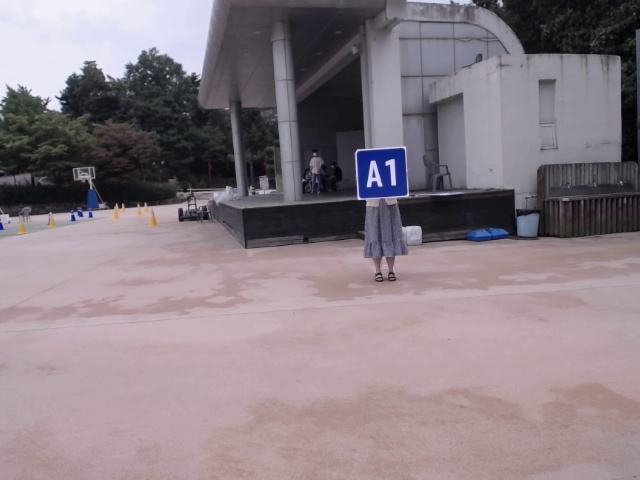delivery_a1: (355, 146, 408, 200)
